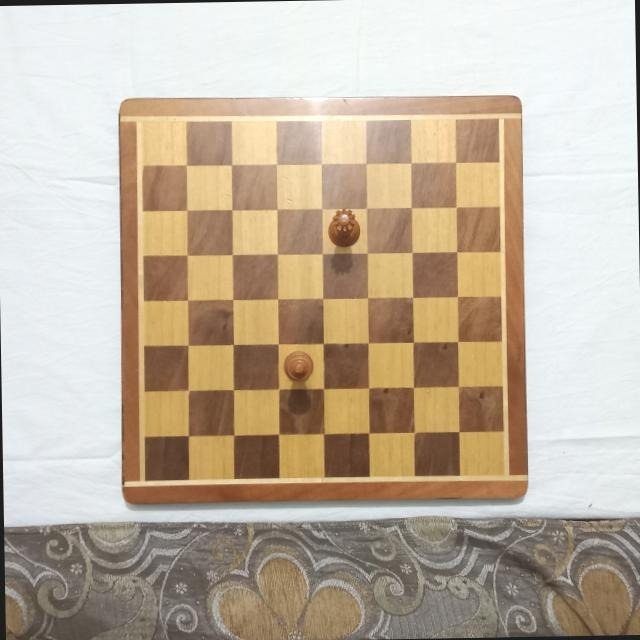white-king: (282, 351, 313, 382)
white-queen: (325, 206, 360, 250)
